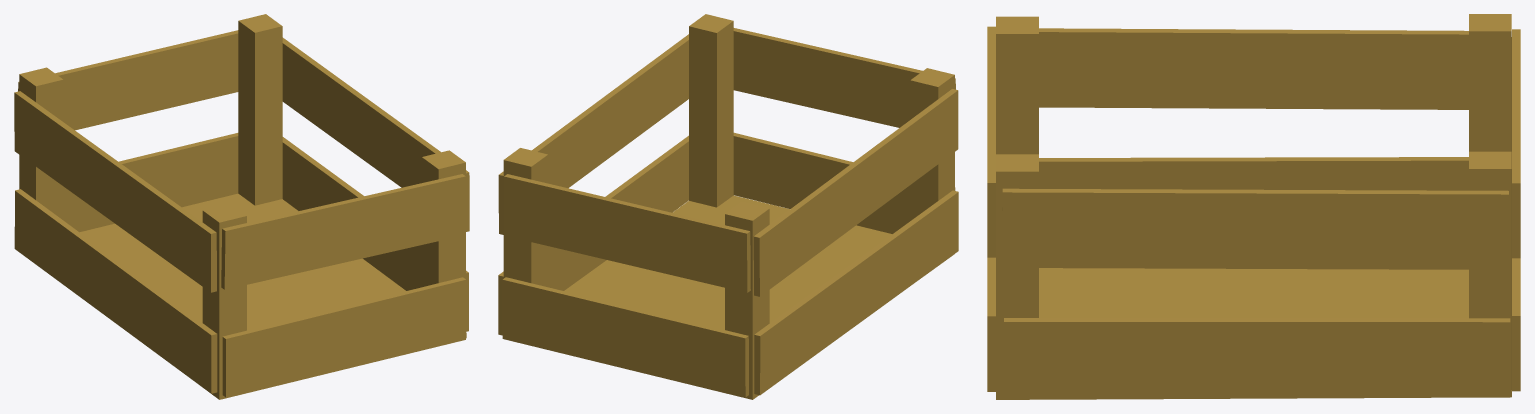
Rendered from WS_Crate.fbx.
3 renders of one model, left to right at view 1: azimuth 30°, elevation 25°; view 2: azimuth 150°, elevation 25°; view 3: azimuth 270°, elevation 25°, orthographic. The views are drawn at different scales.
Parts seen in each view (by area): view 1: Crate_low; view 2: Crate_low; view 3: Crate_low.
Part boxes in pixels (bbox=[...]): Crate_low: bbox=[14, 14, 469, 399]; Crate_low: bbox=[498, 14, 958, 399]; Crate_low: bbox=[987, 14, 1520, 399].
Size of the model in its own units: 0.4143 by 0.2746 by 0.5747.
